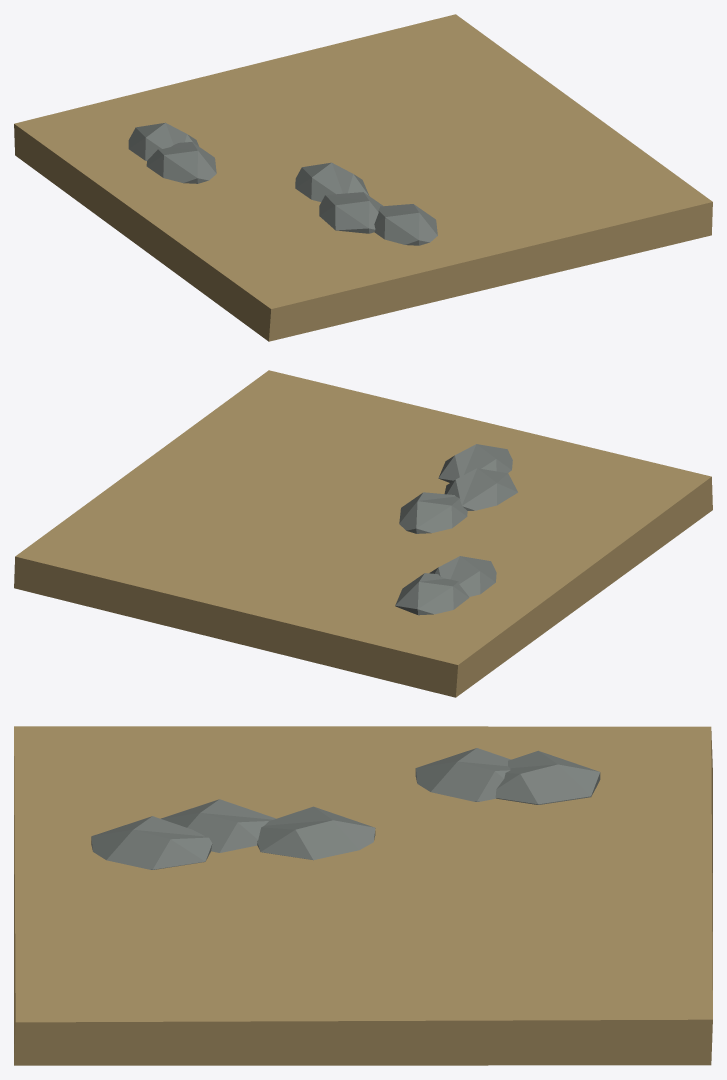
Rendered from coast-seabed.lod1.glb.
The picture shows the model from 3 angles, top to bottom: view 1: azimuth 30°, elevation 25°; view 2: azimuth 150°, elevation 25°; view 3: azimuth 270°, elevation 25°; orthographic projection. The views are drawn at different scales.
Visible parts, largest first — view 1: coast-seabed__body; view 2: coast-seabed__body; view 3: coast-seabed__body.
Boxes of the visible parts, bbox=[...] form: coast-seabed__body: bbox=[14, 14, 712, 341]; coast-seabed__body: bbox=[14, 370, 712, 697]; coast-seabed__body: bbox=[14, 726, 712, 1065].
Size of the model in its own units: 3.94 by 0.4368 by 3.94.
